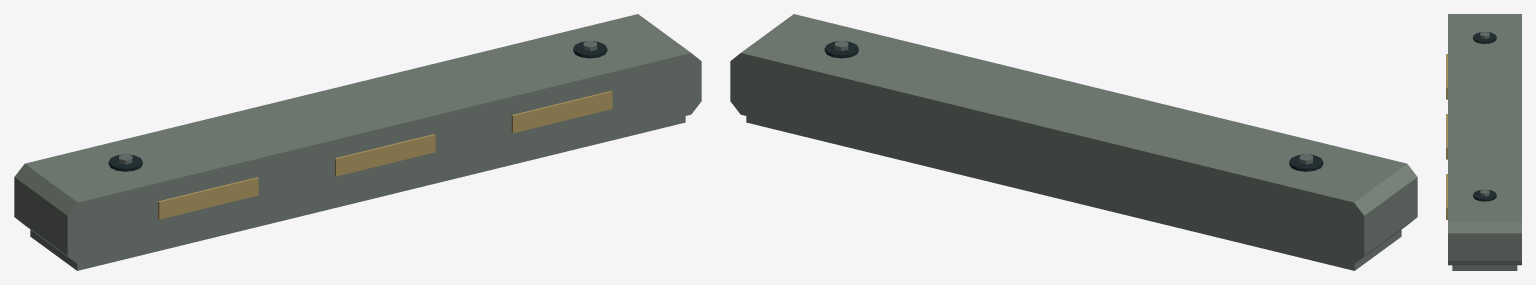
Rendered from wheel-stop.glb.
3 views of the same model, side by side, from view 1: azimuth 30°, elevation 25°; view 2: azimuth 150°, elevation 25°; view 3: azimuth 270°, elevation 25° (orthographic). The views are drawn at different scales.
Visible parts, largest first — view 1: wheel-stop; view 2: wheel-stop; view 3: wheel-stop.
Part boxes in pixels (bbox=[...]): wheel-stop: bbox=[14, 14, 701, 270]; wheel-stop: bbox=[730, 14, 1417, 270]; wheel-stop: bbox=[1446, 14, 1521, 270].
Size of the model in its own units: 1.72 by 0.2045 by 0.256.
